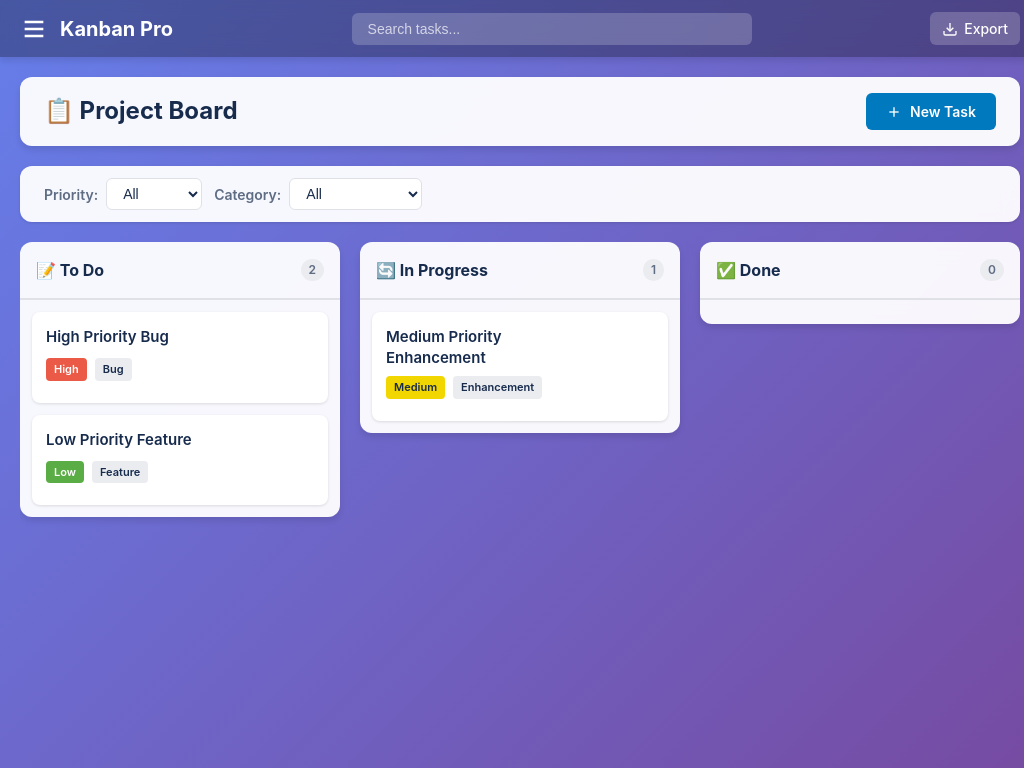
Scenario: KanbanBoard Integration Tests - Comprehensive › Filtering and Search › should search tasks by title
Expected: the heading "High Priority Bug" is shown, [46,327,169,346]
Type "Enhancement" into the field with placeholder "Search tasks..." at (552, 28), box [352,12,752,44]
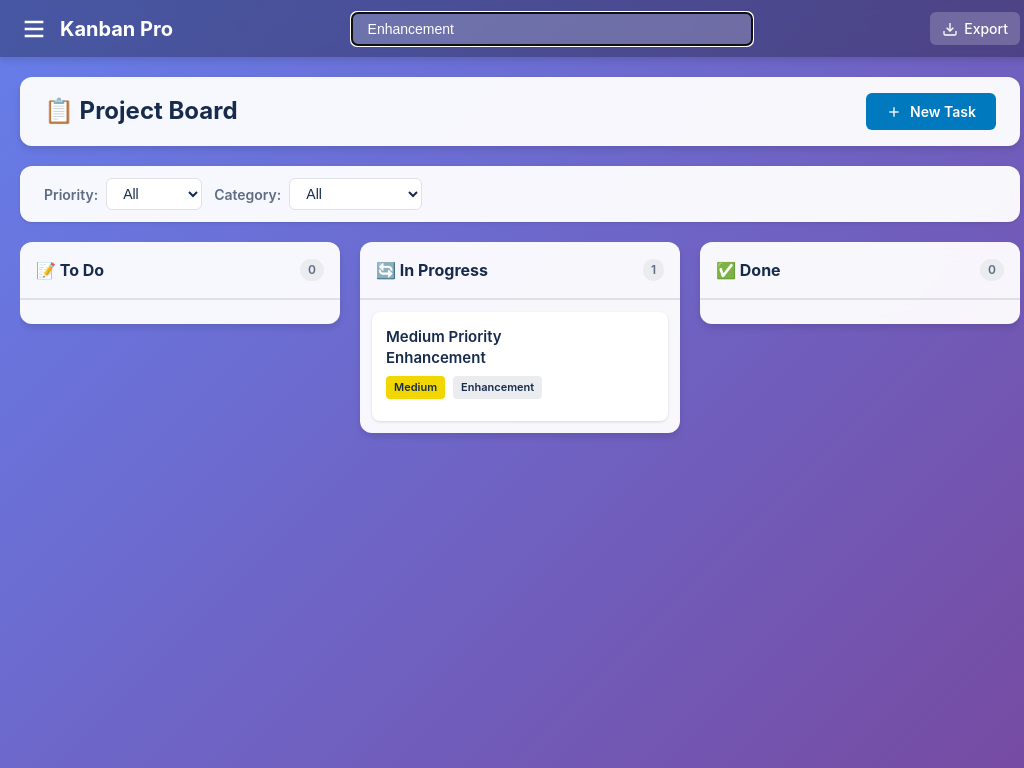
Expected: the heading "Medium Priority Enhancement" is shown, [386,327,502,367]
Now the button "High Priority Bug" is gone
